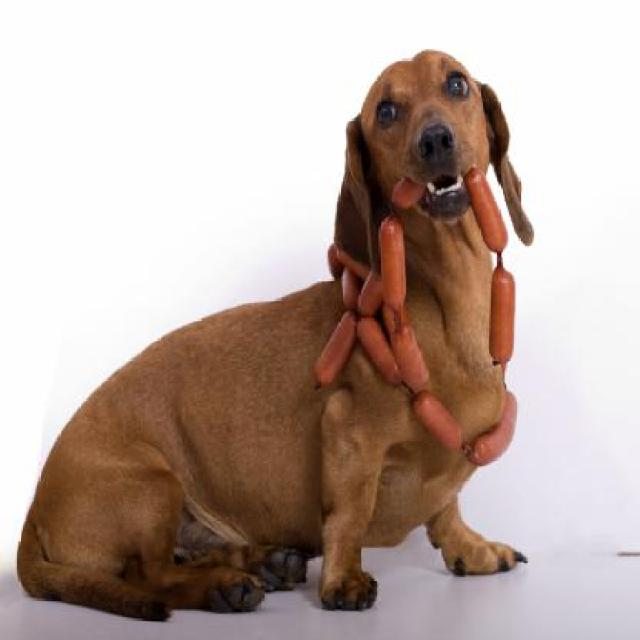Dog: (14, 40, 537, 626)
